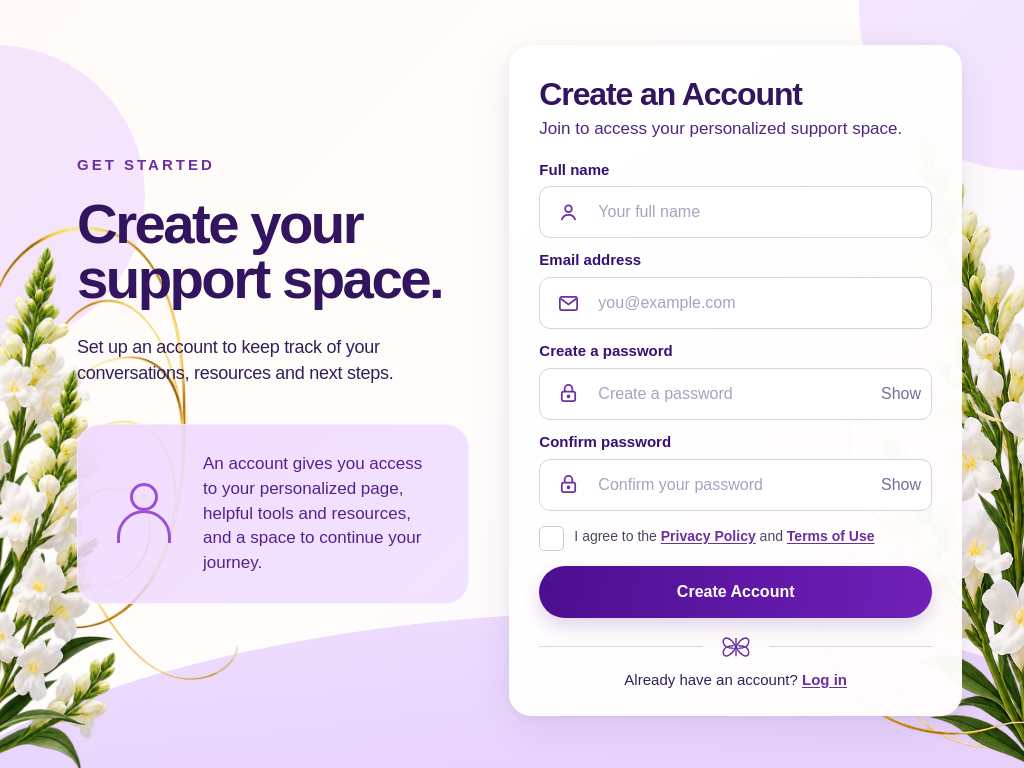
Test: Signup page › shows backend error when email already exists
Type "Jane Doe" into the field labelled "Full name" at coordinates (736, 212), box [539,186,932,238]
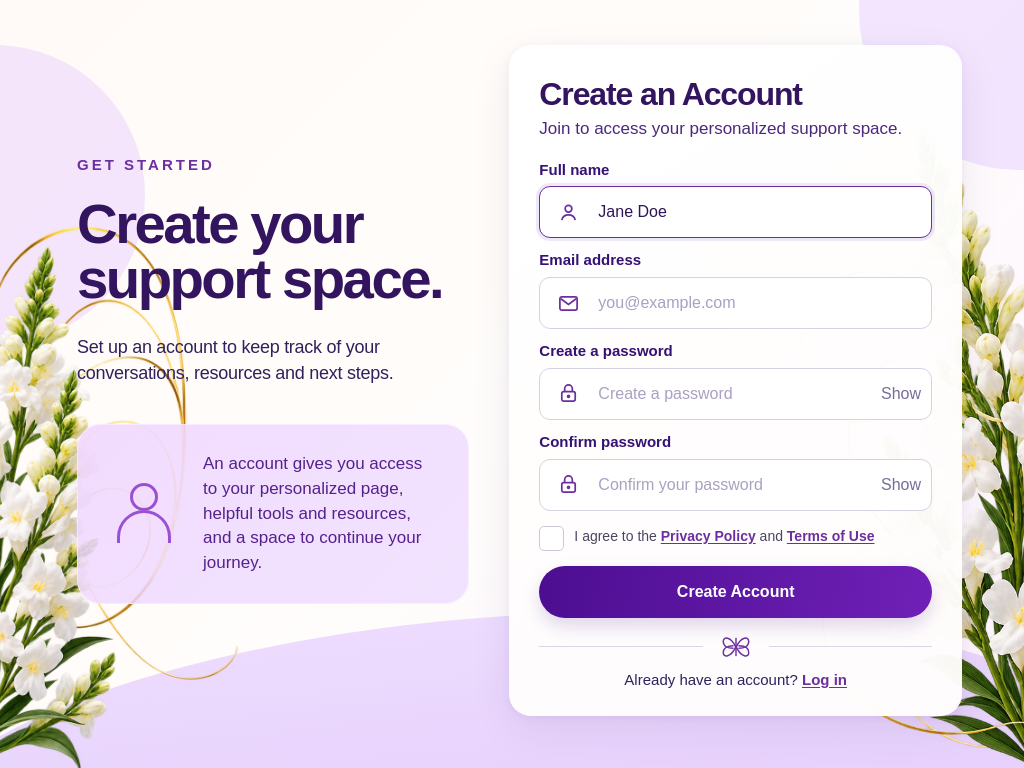
Type "jane@mail.com" into the field labelled "Email address" at coordinates (736, 303), box [539,277,932,329]
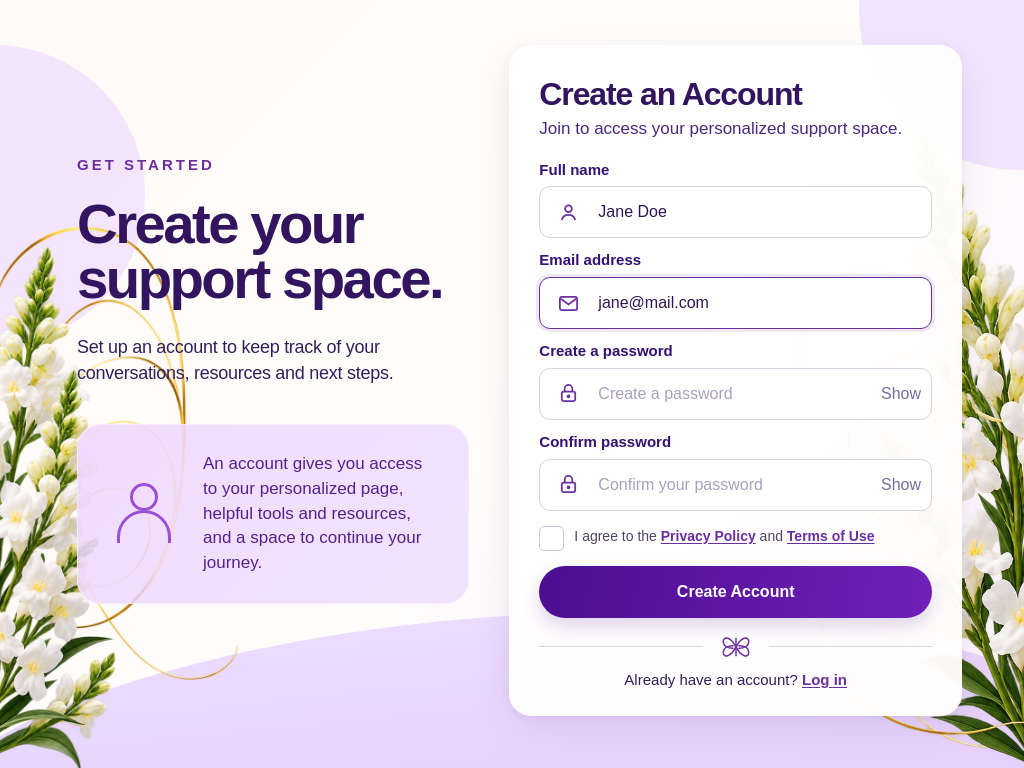
Type "Password123" into the password field labelled "Create a password" at coordinates (736, 394), box [539,368,932,420]
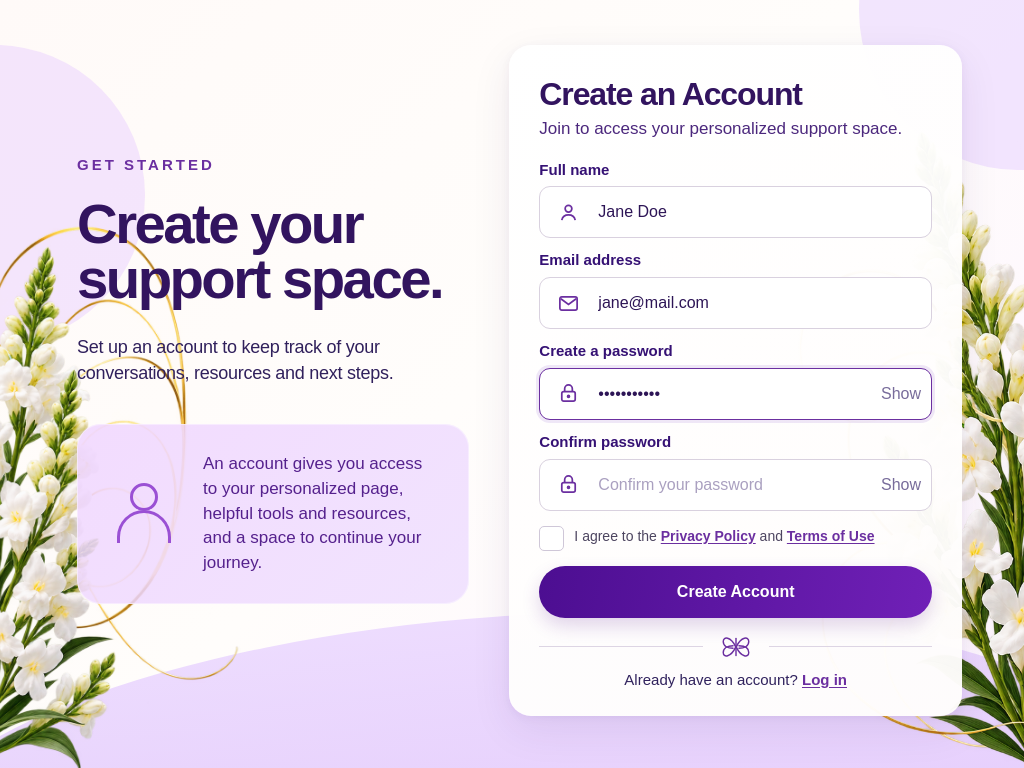
Type "Password123" into the password field labelled "Confirm password" at coordinates (736, 485), box [539,459,932,511]
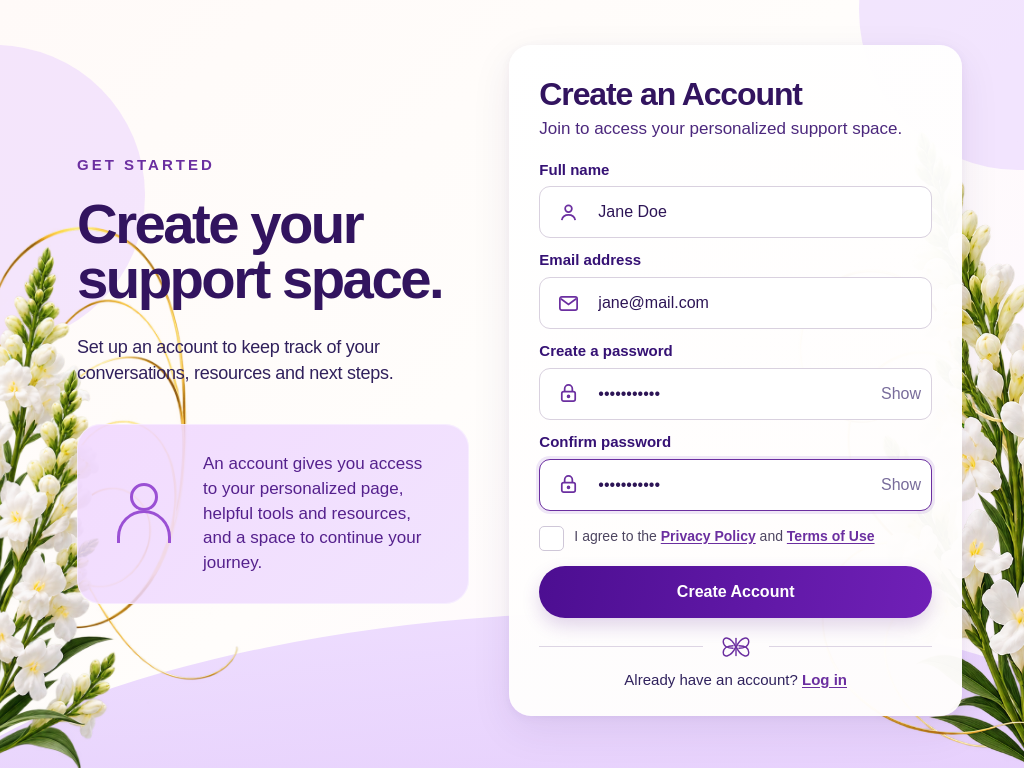
Click the checkbox at coordinates (736, 538), box [539,526,932,551]
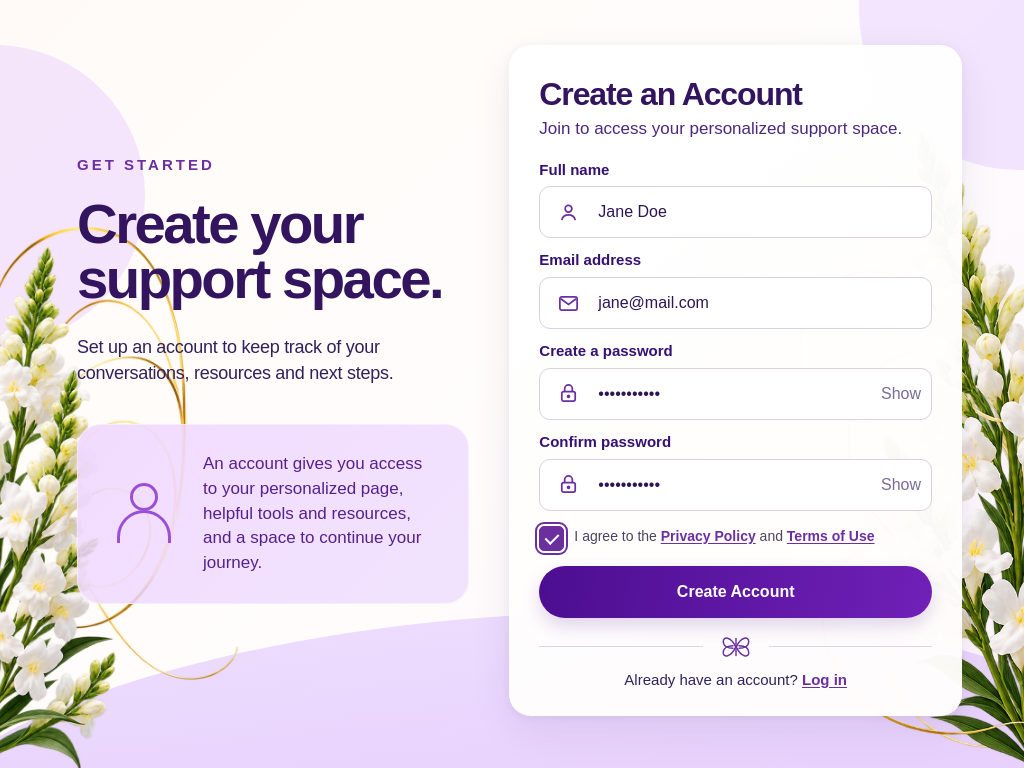
Click the button "Create Account" at coordinates (736, 592), box [539,566,932,618]
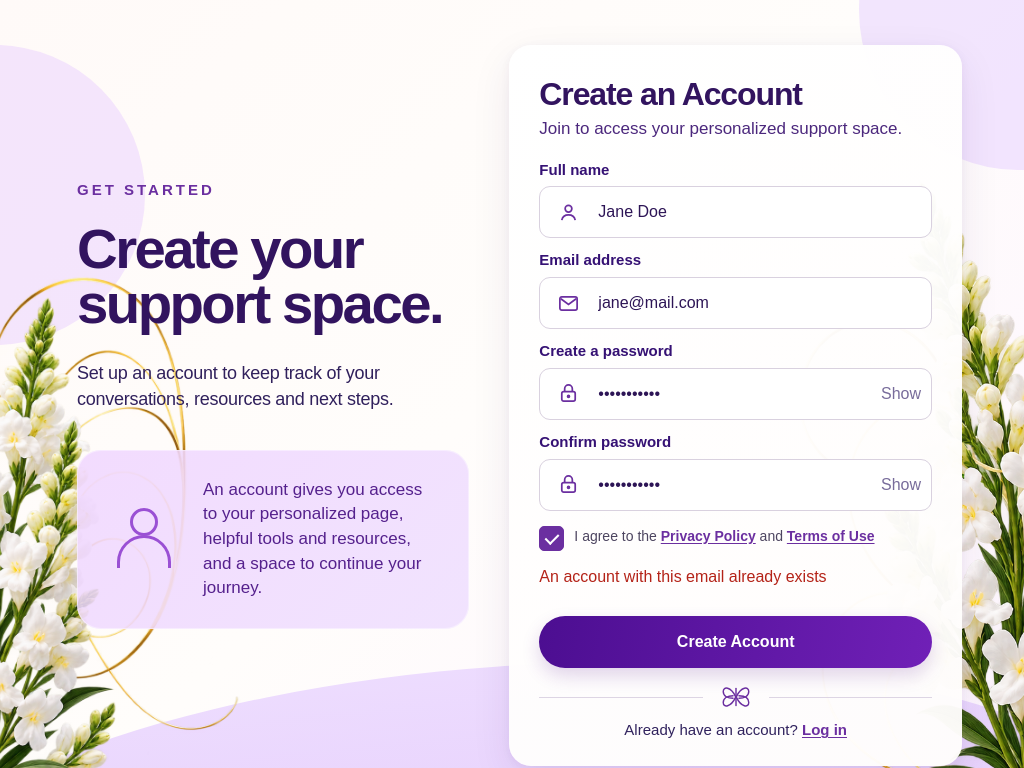
Now the message reads "An account with this email already exists", box [539,568,827,585]
